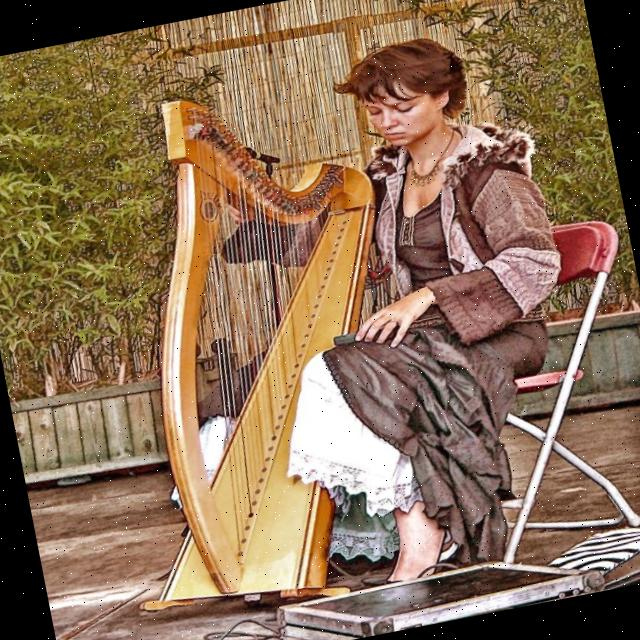harp: (50, 61, 443, 622)
